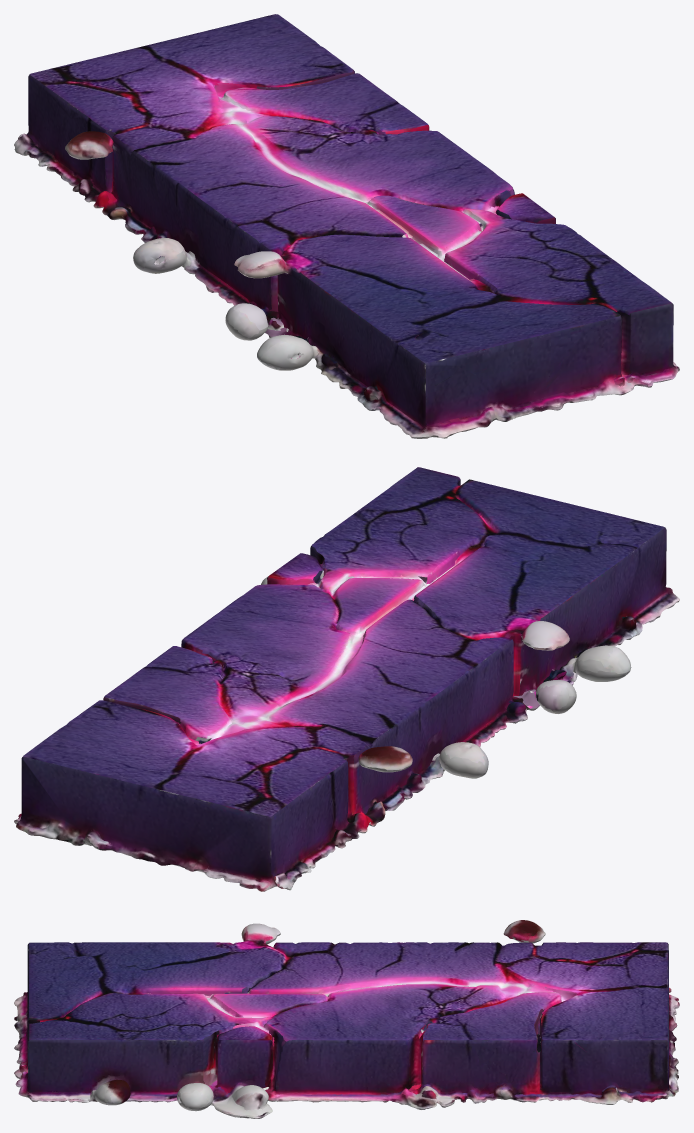
File: approach-stone-2-generated-2026-05-17T18-19-31-221Z.medium.glb
3 views of the same model, one above another, from view 1: azimuth 30°, elevation 25°; view 2: azimuth 150°, elevation 25°; view 3: azimuth 270°, elevation 25° (orthographic). The views are drawn at different scales.
Visible parts, largest first — view 1: temp_mesh.ply; view 2: temp_mesh.ply; view 3: temp_mesh.ply.
Boxes of the visible parts, box(x1,y1,x2,y2) form: temp_mesh.ply: box(14, 14, 679, 438); temp_mesh.ply: box(14, 467, 679, 891); temp_mesh.ply: box(14, 920, 679, 1118).
Bounding box in the file's own units: 1.02 × 0.2224 × 1.97.
1 material, 1 textured.
